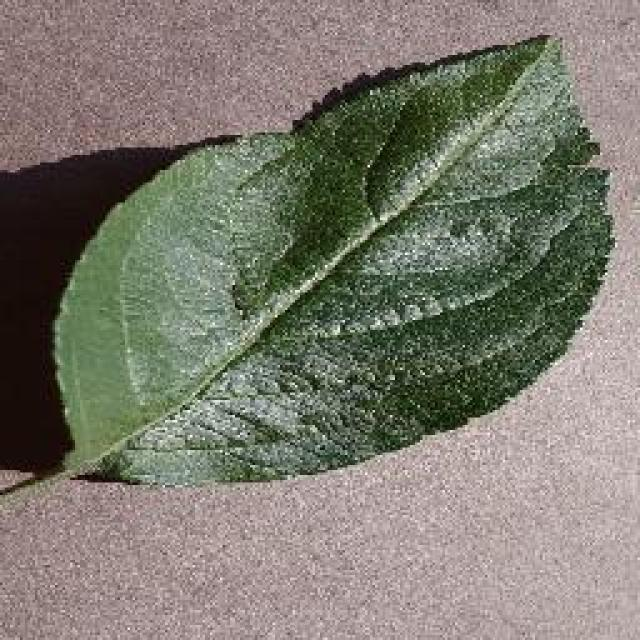apple healthy: (45, 30, 617, 488)
